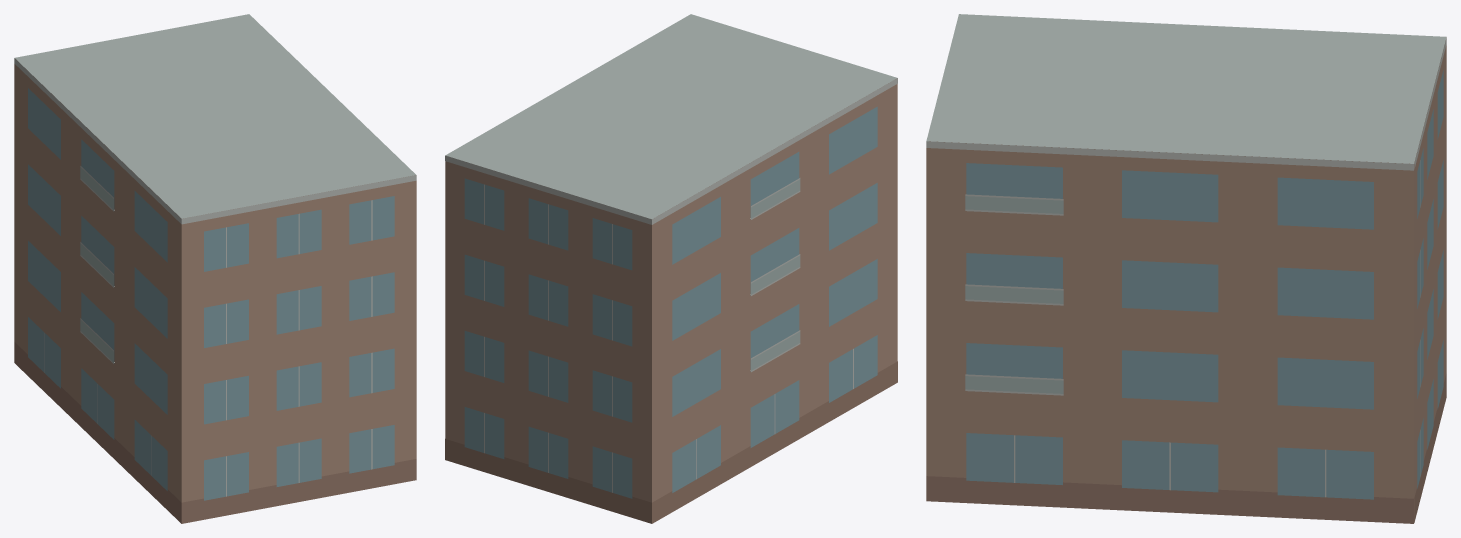
File: survey-upis-32663668.glb
3 renders of one model, left to right at view 1: azimuth 30°, elevation 25°; view 2: azimuth 150°, elevation 25°; view 3: azimuth 270°, elevation 25°, orthographic. The views are drawn at different scales.
Parts seen in each view (by area): view 1: survey-upis-32663668.tmp; view 2: survey-upis-32663668.tmp; view 3: survey-upis-32663668.tmp.
Part boxes in pixels (x1,y1,x2,y2): survey-upis-32663668.tmp: (14, 14, 416, 523); survey-upis-32663668.tmp: (445, 14, 897, 523); survey-upis-32663668.tmp: (926, 14, 1446, 523).
Bounding box in the file's own units: 11.71 × 13.1 × 17.17.
